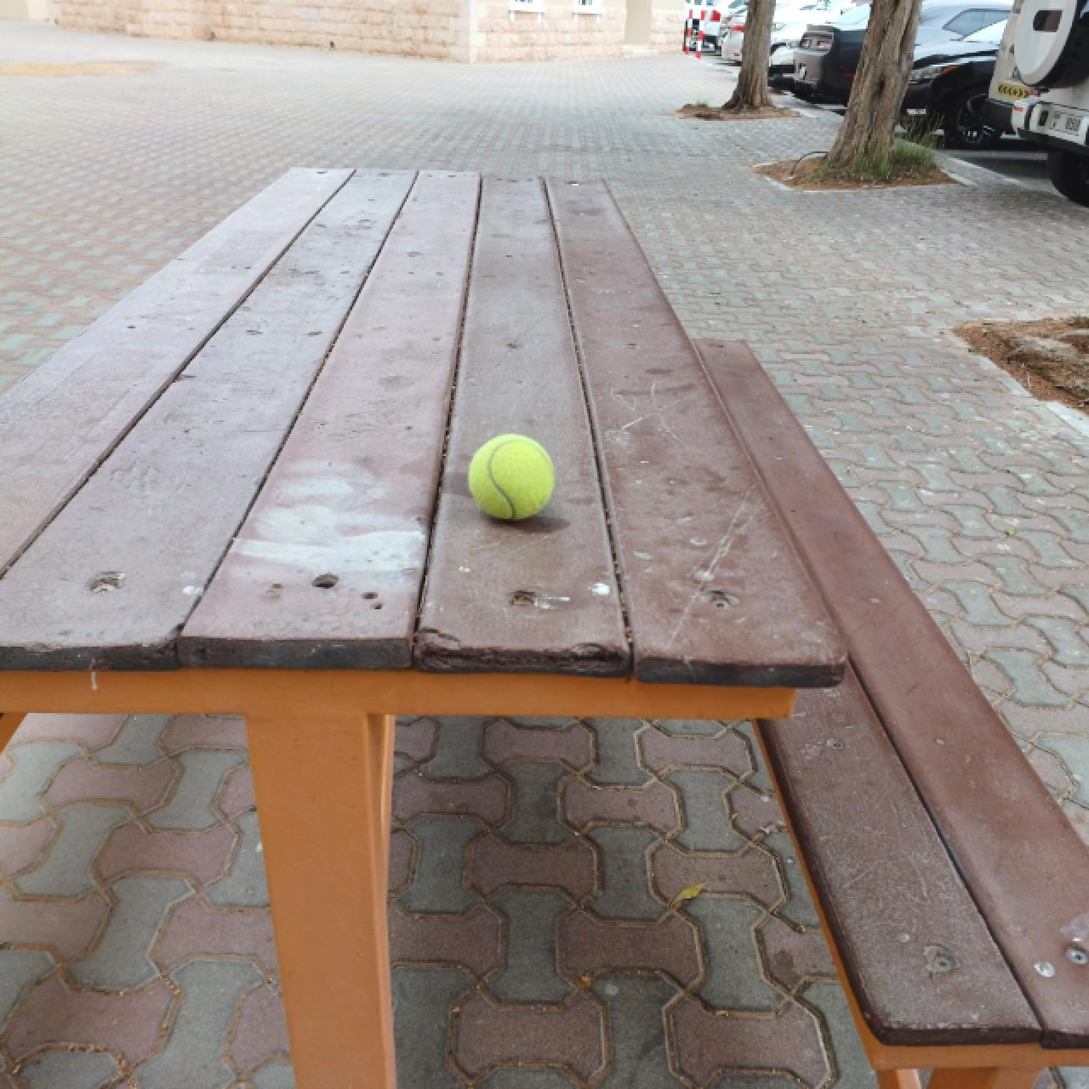tennis-ball: (471, 430, 557, 523)
